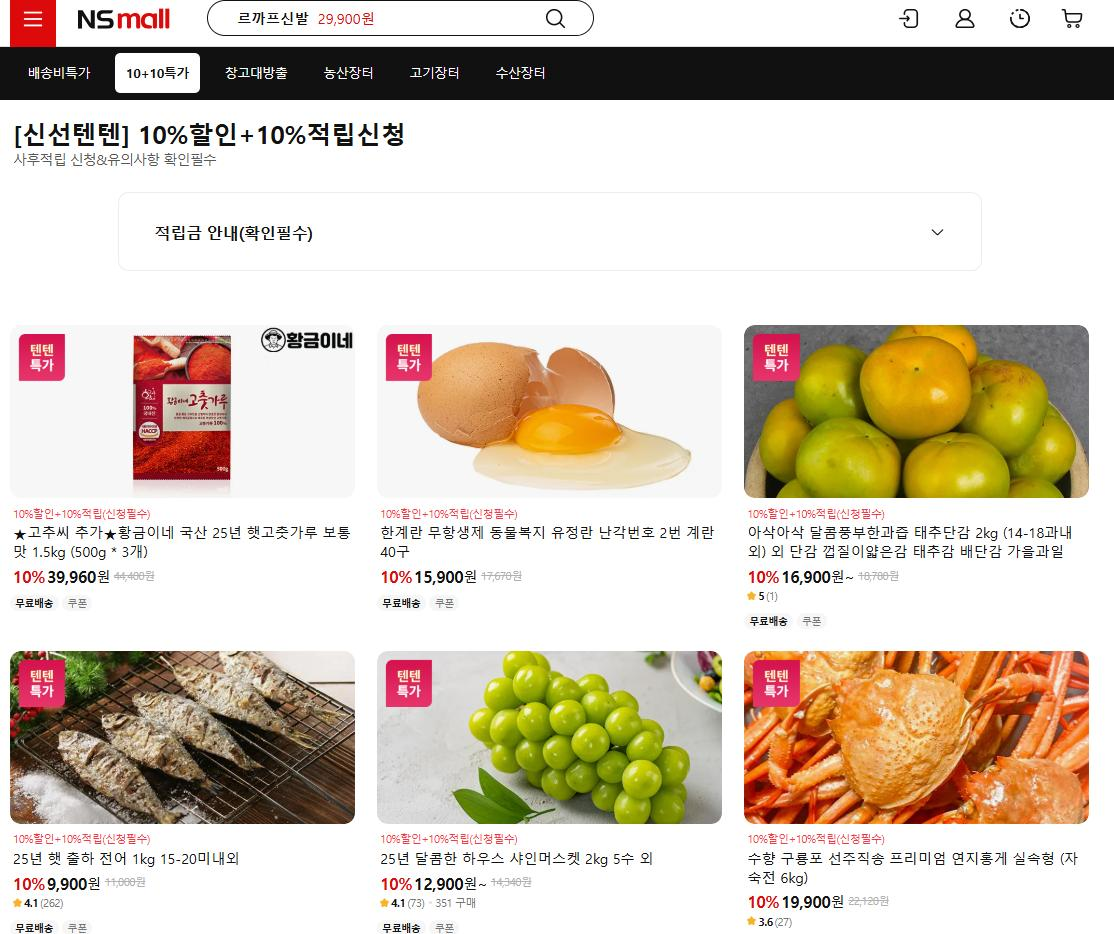button: (119, 191, 980, 269), (115, 54, 202, 93), (493, 57, 552, 87), (24, 59, 94, 84), (408, 59, 464, 83), (226, 62, 291, 82), (950, 6, 991, 34), (893, 4, 930, 34), (322, 64, 376, 83), (1006, 2, 1035, 36), (1058, 0, 1086, 33)
input_field: (200, 0, 597, 39)
